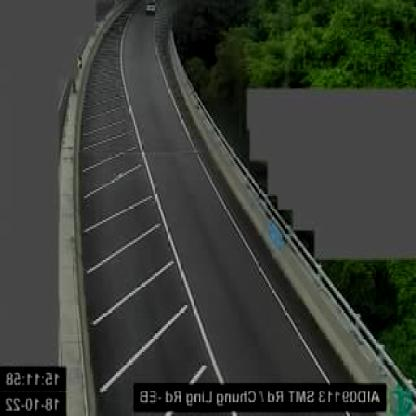Car: (145, 0, 159, 15)
